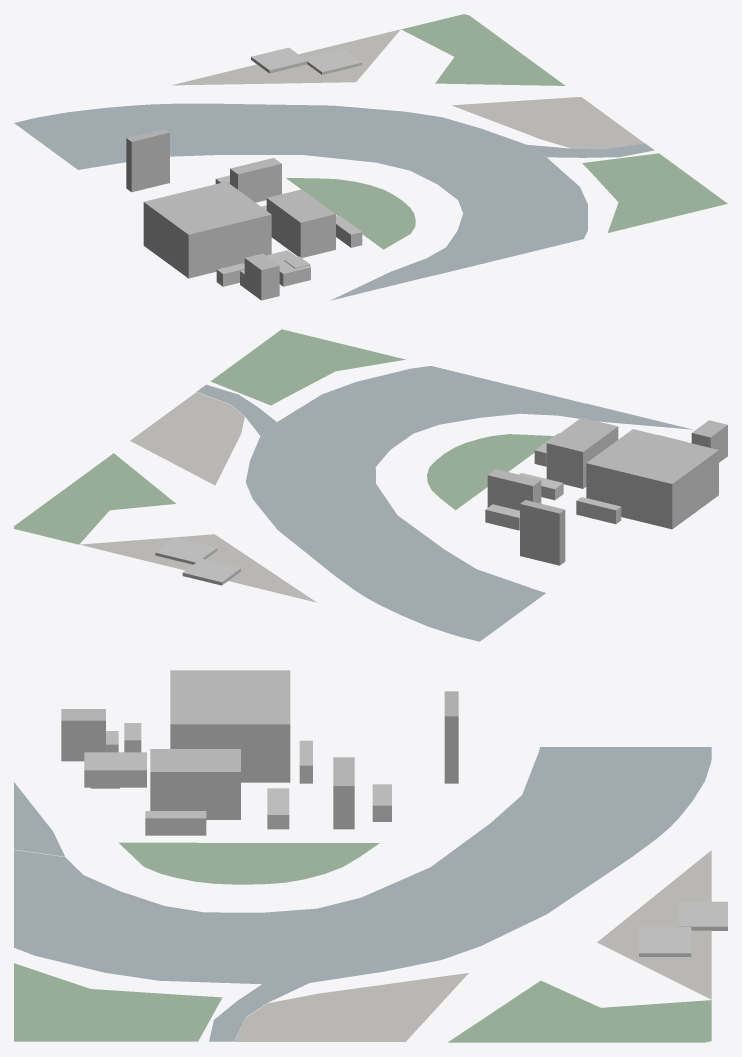
Rendered from 122_74_mid.glb.
3 views of the same model, one above another, from view 1: azimuth 30°, elevation 25°; view 2: azimuth 150°, elevation 25°; view 3: azimuth 270°, elevation 25° (orthographic). The views are drawn at different scales.
Bounding box in the file's own units: 531 × 53.73 × 512.
